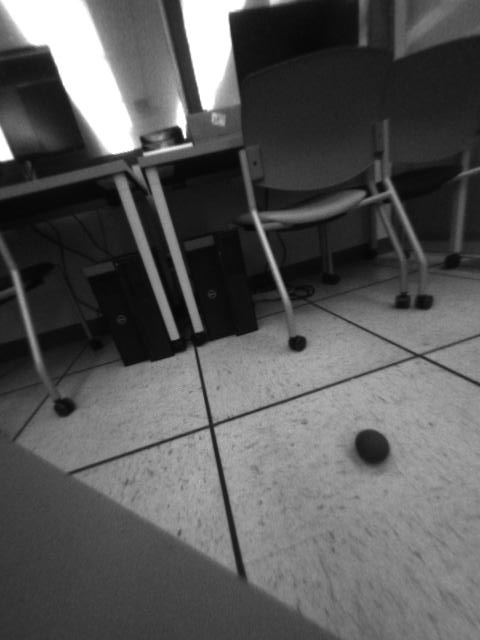dogtoy: (348, 419, 400, 474)
